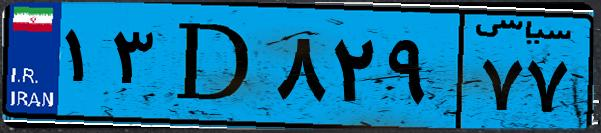1: (57, 26, 110, 100)
2: (330, 28, 385, 110)
3: (110, 28, 158, 98)
7: (475, 38, 525, 113), (525, 38, 570, 115)
8: (270, 28, 330, 110)
9: (385, 28, 445, 110)
D: (158, 12, 270, 120)
